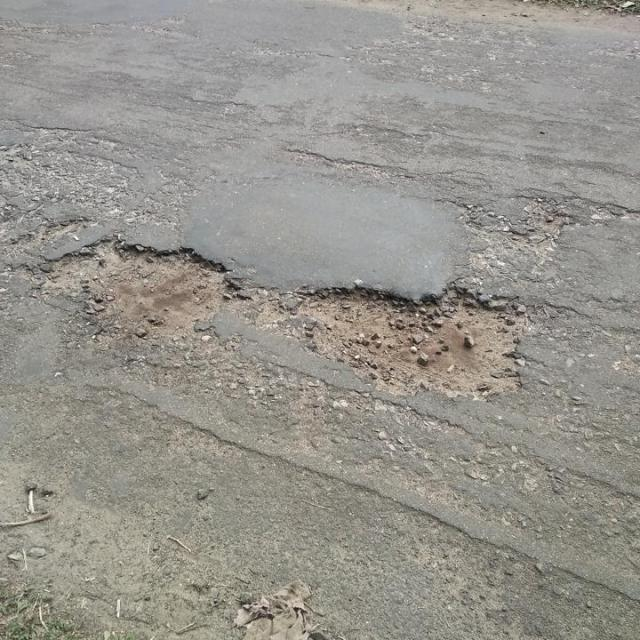Pothole: (276, 281, 534, 403), (34, 234, 250, 343)
